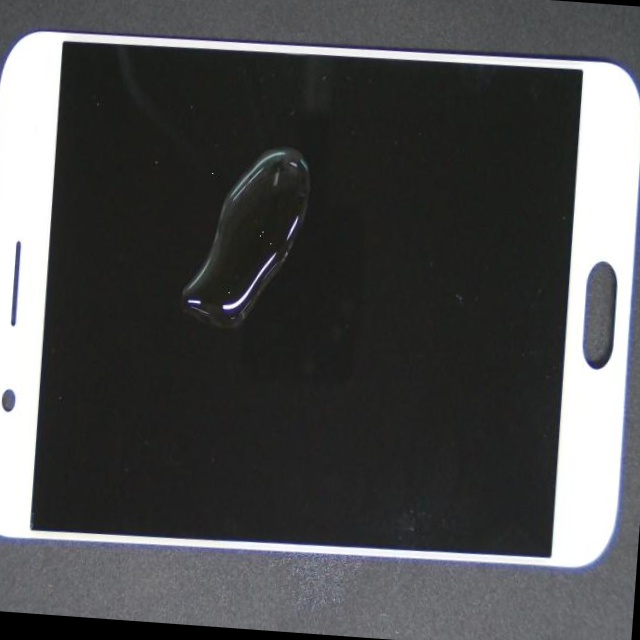oil: (92, 59, 337, 399)
